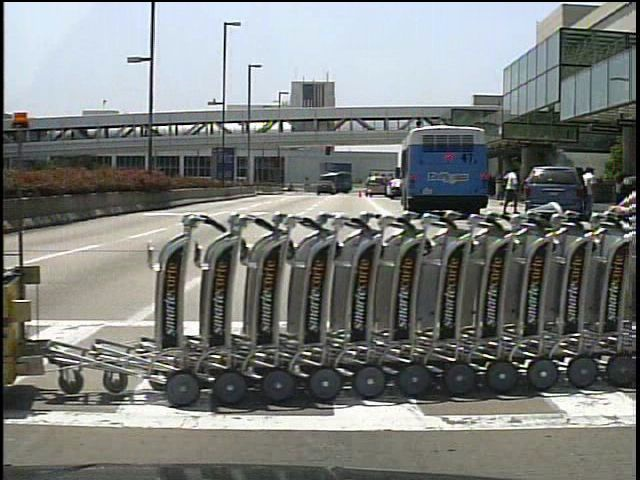person: (580, 165, 601, 214), (501, 165, 518, 214), (573, 164, 588, 219)
